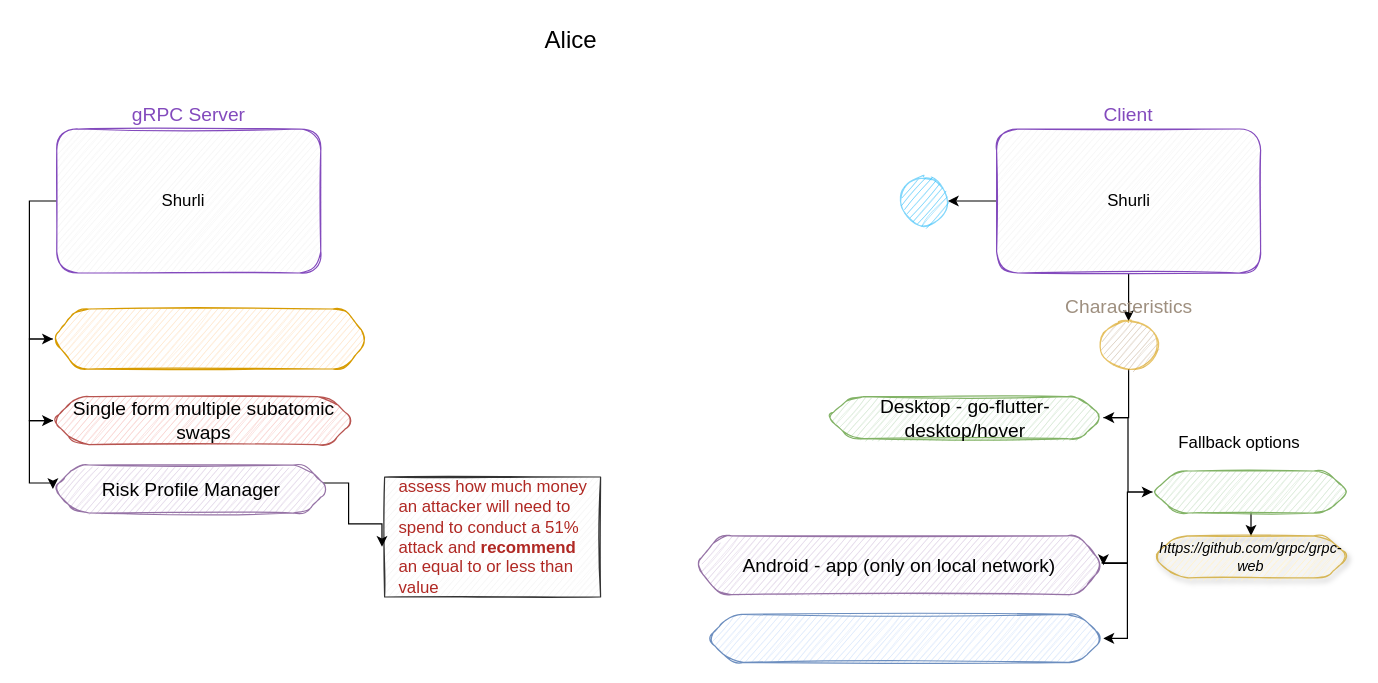
Some shapes in this 1378 by 683 pixel diagram are drawn without their labels. The shapes that lost their labels are listed below. From the top down, each one's centre as x and y in pixels, then its label:
At pixel 923 200: "Features".
At pixel 210 338: "Single subatomic swaps (micro transactions)".
At pixel 1250 491: "Desktop - browser".
At pixel 904 637: "iOS - app (only on local network)".
